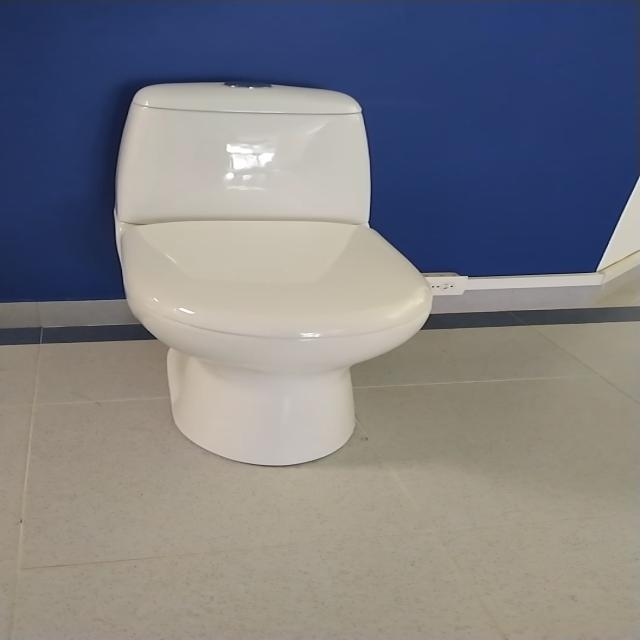toilet: (112, 80, 434, 467)
